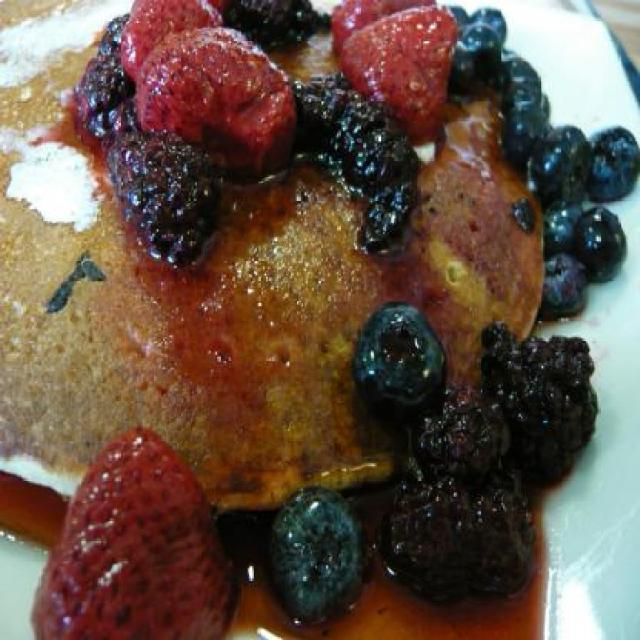Pancake: (0, 0, 546, 506)
